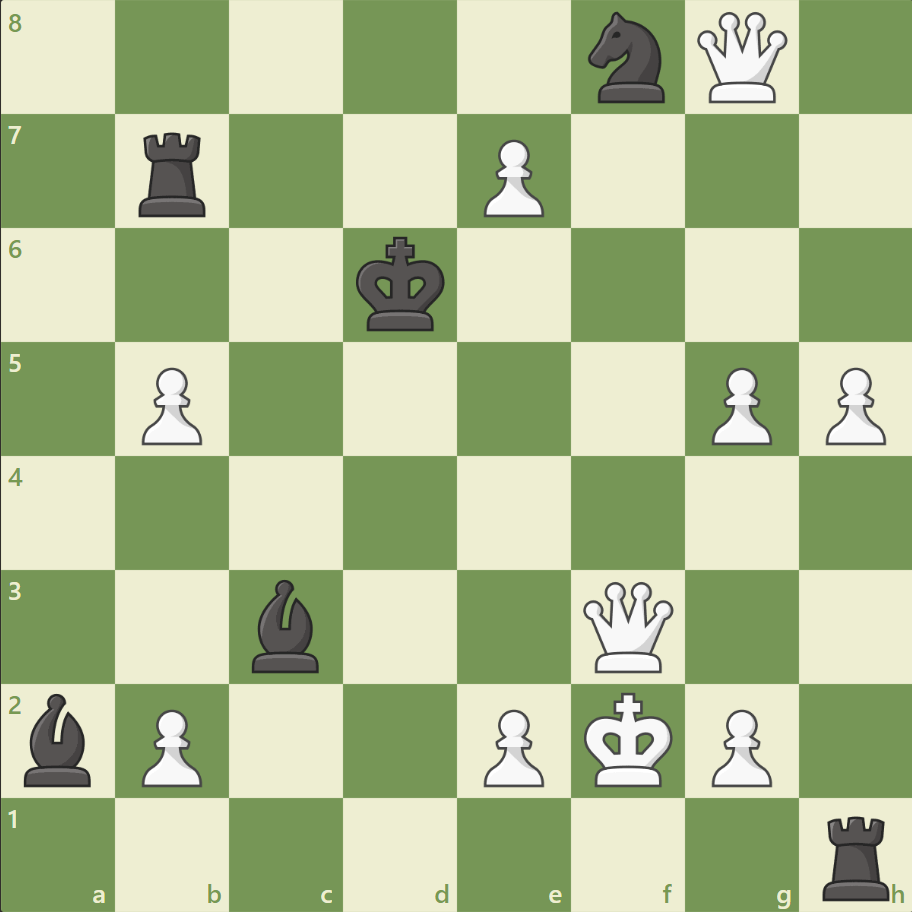K: (579, 685, 679, 793)
P: (474, 132, 549, 223), (133, 359, 208, 450), (701, 359, 776, 450), (133, 700, 208, 791), (474, 700, 549, 791), (701, 700, 776, 791), (815, 359, 889, 450)
Q: (578, 576, 677, 676), (691, 9, 790, 108)
b: (17, 687, 101, 790), (244, 574, 328, 676)
k: (351, 231, 451, 339)
n: (579, 7, 676, 110)
r: (814, 806, 897, 904), (133, 125, 215, 222)
